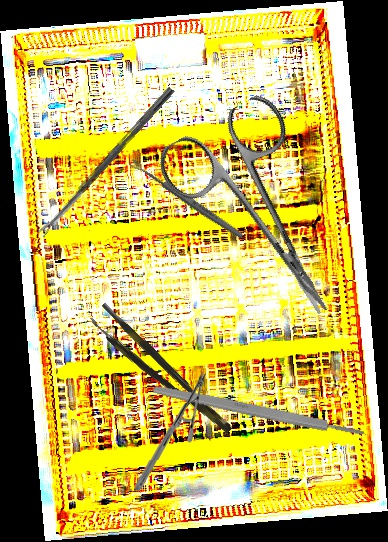Iris Scissors: (149, 89, 378, 348)
Needle Holder: (134, 370, 207, 493)
Scalpel Handle: (151, 382, 366, 441)
Surgical Spoon: (37, 85, 175, 238), (128, 157, 245, 241)
Tissue Forceps: (87, 301, 235, 446)
